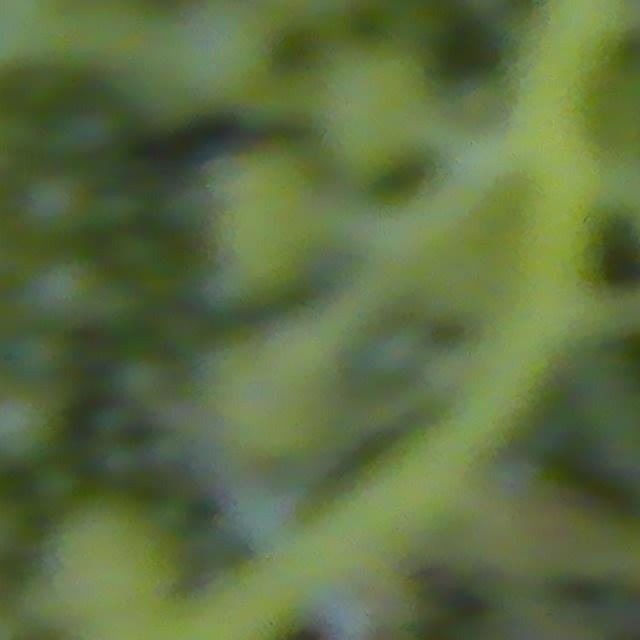SeaGrape: (25, 264, 103, 339), (18, 171, 89, 251), (0, 387, 64, 467), (10, 328, 70, 382)
